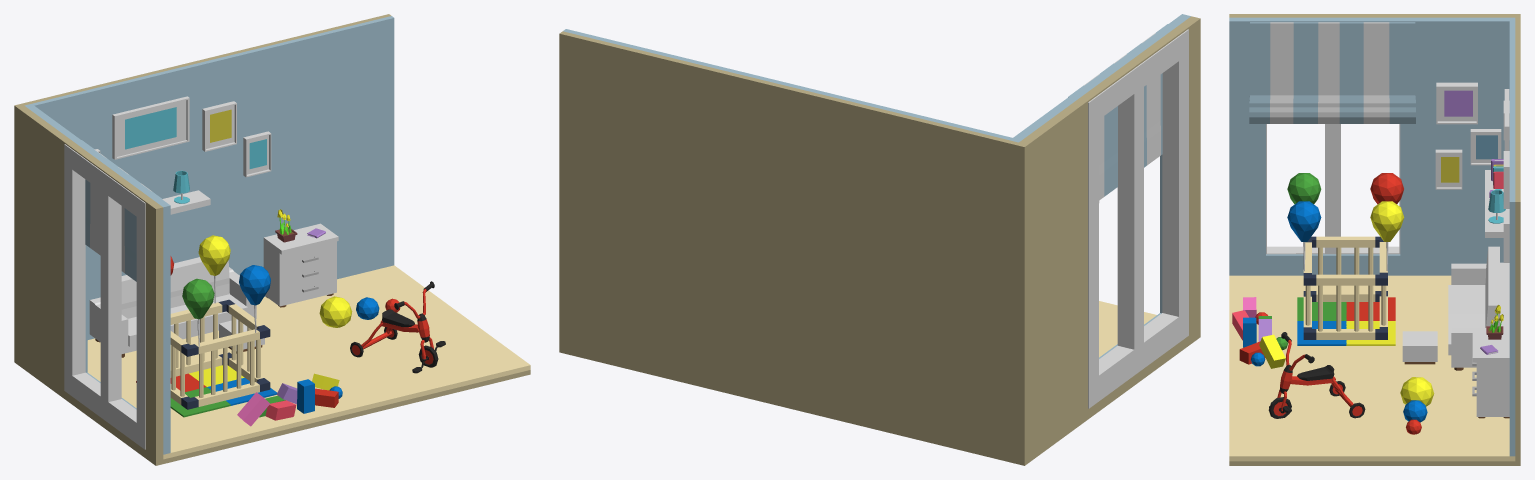
3 views of the same model, side by side, from view 1: azimuth 30°, elevation 25°; view 2: azimuth 150°, elevation 25°; view 3: azimuth 270°, elevation 25° (orthographic). The views are drawn at different scales.
Visible parts, largest first — view 1: Cube, Window, Cuna, Gabinete, Sofa, Art 5, Tricycle, Colors, Art 6, Art 7, Ballons 2, Ballons 1 (+5 smaller); view 2: Cube, Window; view 3: Cube, Window, Cuna, Sofa, Gabinete, Colors, Tricycle, Art 1, Mueble, Art 3, Art 2, Ballons 1 (+14 smaller).
Boxes of the visible parts, left/top/right/bottom form: Cube: left=14, top=14, right=530, bottom=465; Window: left=64, top=140, right=161, bottom=449; Cuna: left=170, top=299, right=270, bottom=409; Gabinete: left=263, top=223, right=338, bottom=307; Sofa: left=89, top=257, right=256, bottom=357; Art 5: left=112, top=96, right=189, bottom=159; Tricycle: left=350, top=281, right=445, bottom=373; Colors: left=136, top=365, right=276, bottom=417; Art 6: left=202, top=101, right=236, bottom=151; Art 7: left=243, top=131, right=271, bottom=177; Ballons 2: left=182, top=278, right=214, bottom=346; Ballons 1: left=239, top=265, right=270, bottom=332; Cube: left=559, top=14, right=1200, bottom=465; Window: left=1068, top=24, right=1188, bottom=408; Cube: left=1229, top=14, right=1520, bottom=465; Window: left=1249, top=22, right=1415, bottom=254; Cuna: left=1303, top=236, right=1387, bottom=339; Sofa: left=1448, top=246, right=1509, bottom=370; Gabinete: left=1472, top=329, right=1509, bottom=418; Colors: left=1297, top=297, right=1395, bottom=345; Tricycle: left=1268, top=332, right=1365, bottom=418; Art 1: left=1436, top=82, right=1477, bottom=124; Mueble: left=1402, top=331, right=1437, bottom=364; Art 3: left=1435, top=149, right=1462, bottom=189; Art 2: left=1470, top=129, right=1501, bottom=165; Ballons 1: left=1287, top=201, right=1321, bottom=271.
Size of the model in its own units: 306 by 200 by 200.
